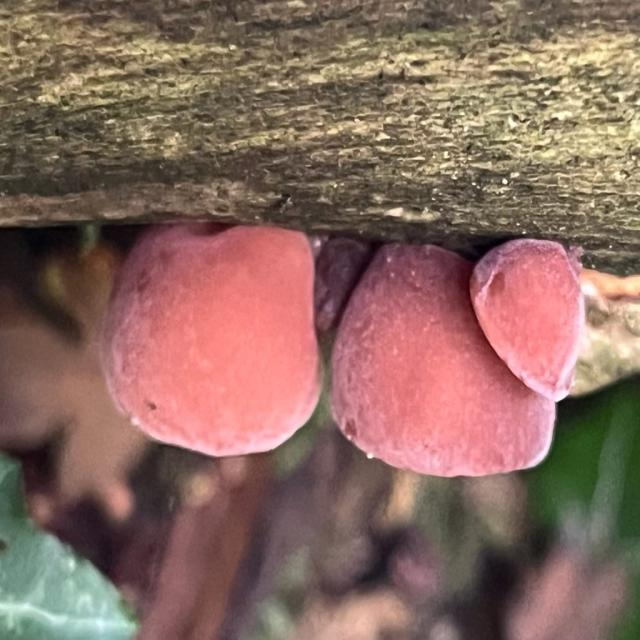Matang: (99, 217, 329, 468), (327, 242, 561, 484), (470, 232, 590, 402)
